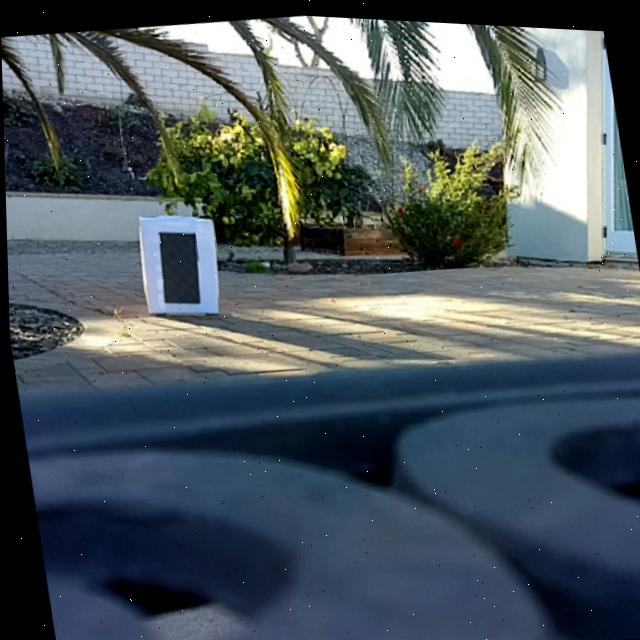led: (151, 223, 205, 308)
